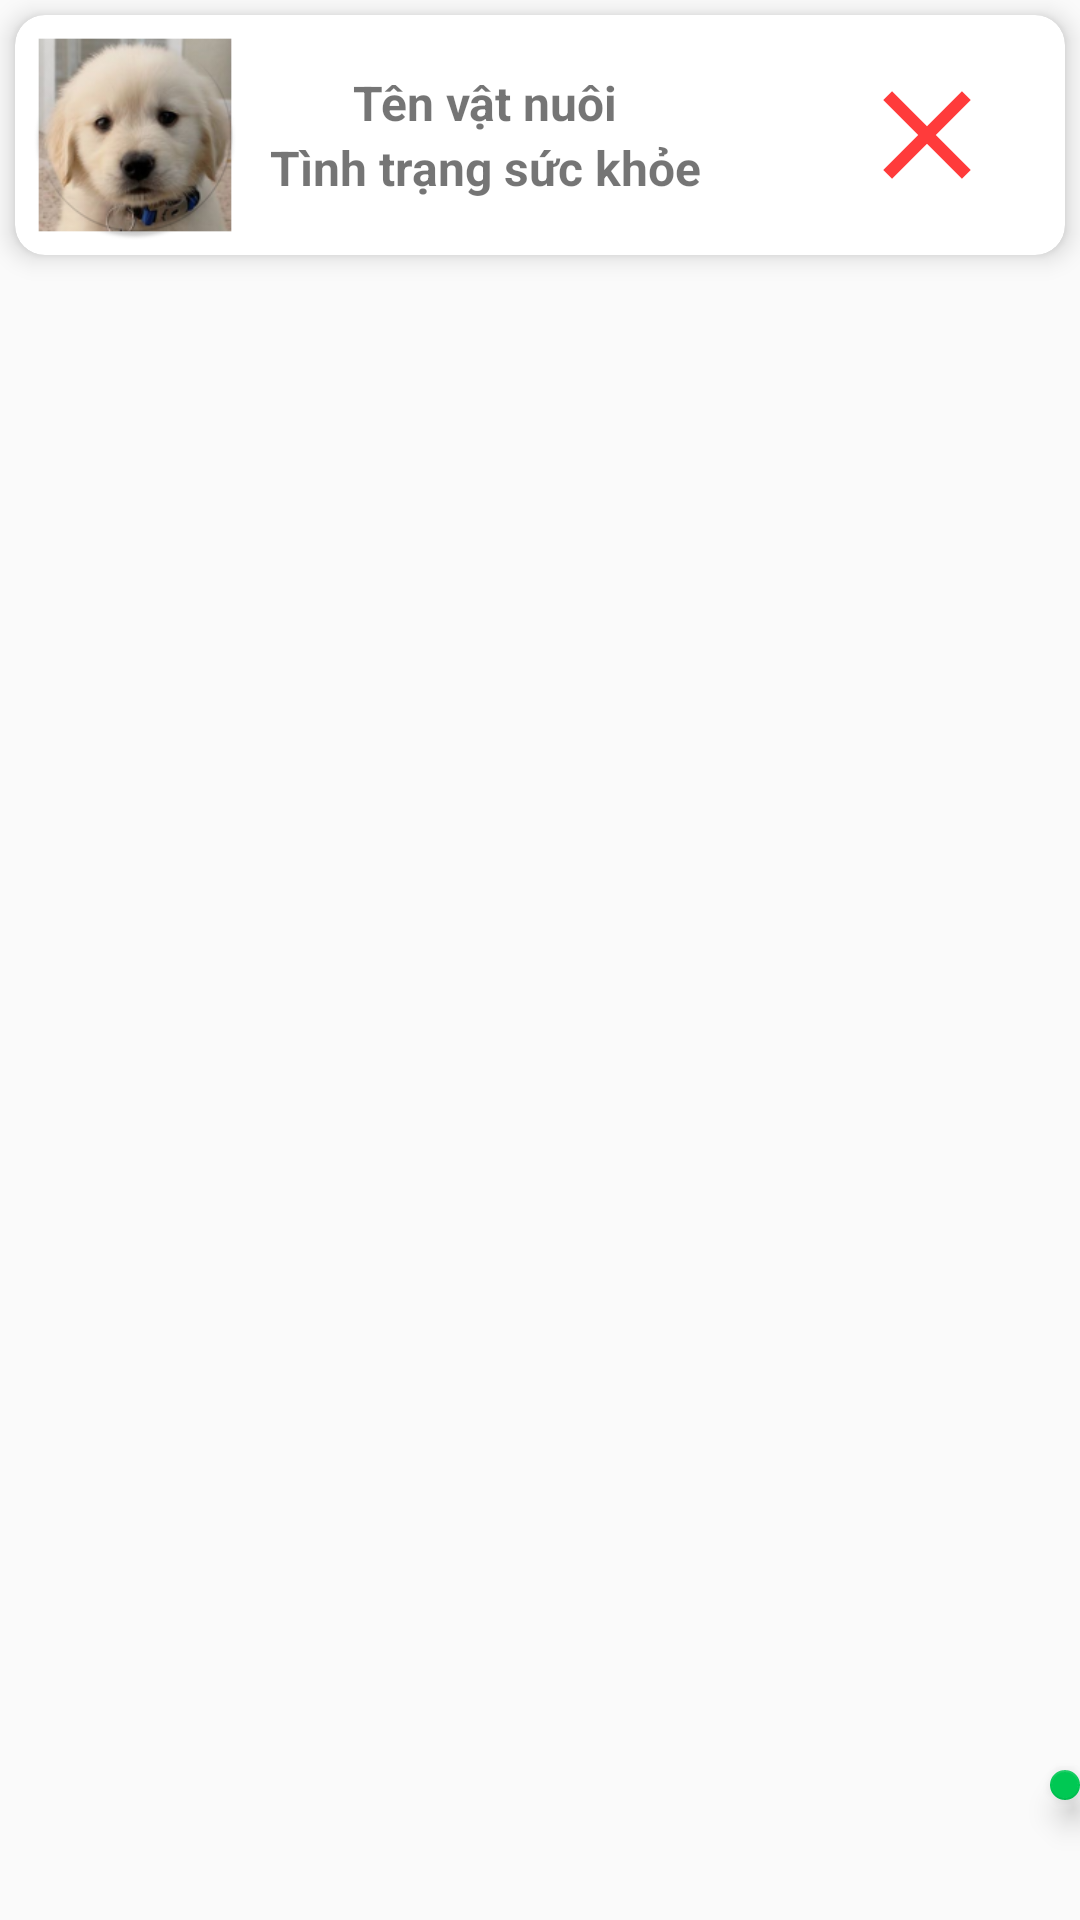

Icons on this 1080 × 1920 Android screen, each with its box as bbox=(x1, y1, x2, y2):
clear back: bbox=(883, 91, 971, 179)
dog: bbox=(38, 38, 232, 236)
